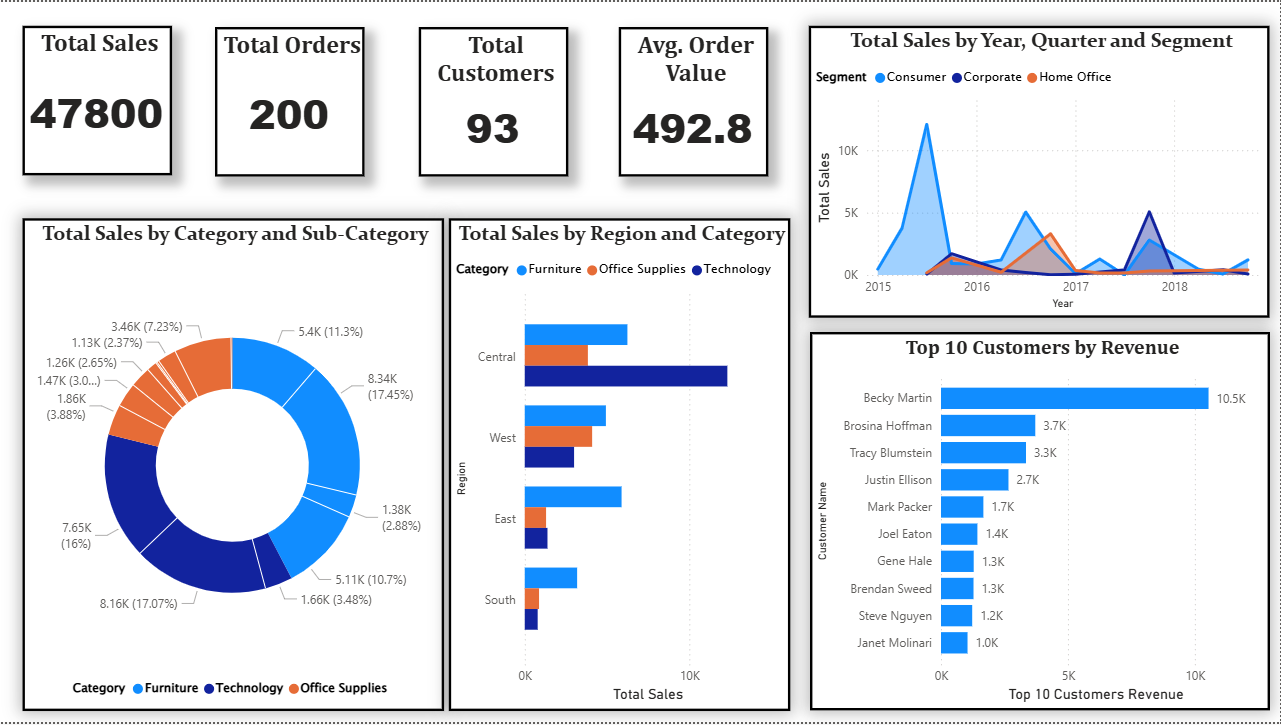

This screenshot's page, from the dashboard's own definition file:
{"tool":"powerbi","page":{"name":"Page 1","canvas":[1280,720],"ordinal":0},"visuals":[{"type":"card","title":"Total Sales","fields":{"Values":["Sum(Sales_Clean_data.Sales)"]},"box":[22,23.3,149.6,149.6],"z":0},{"type":"card","title":"Avg. Order Value","fields":{"Values":["Sales_Clean_data.Avg Order Value"]},"box":[618.9,24.7,149.6,149.6],"z":1000},{"type":"card","title":"Total Customers","fields":{"Values":["Sales_Clean_data.Total Customers"]},"box":[418.5,24.7,149.6,149.6],"z":2000},{"type":"card","title":"Total Orders","fields":{"Values":["Sales_Clean_data.Order_IDS"]},"box":[215.4,24.7,149.6,149.6],"z":3000},{"type":"donutChart","title":"Total Sales by Category and Sub-Category","fields":{"Category":["Sales_Clean_data.Category"],"Series":["Sales_Clean_data.Sub-Category"],"Y":["Sales_Clean_data.Total Sales"]},"box":[22,216.8,421.3,492.6],"z":4000},{"type":"areaChart","title":"Total Sales by Year, Quarter and Segment","fields":{"Category":["Sales_Clean_data.Order Date.Variation.Date Hierarchy.Year","Sales_Clean_data.Order Date.Variation.Date Hierarchy.Quarter"],"Series":["Sales_Clean_data.Segment"],"Y":["Sales_Clean_data.Total Sales"]},"box":[808.2,23.3,461.1,292.3],"z":5000},{"type":"clusteredBarChart","title":"Total Sales by Region and Category","fields":{"Category":["Sales_Clean_data.Region"],"Series":["Sales_Clean_data.Category"],"Y":["Sales_Clean_data.Total Sales"]},"box":[448.7,216.8,341.7,492.6],"z":6000},{"type":"barChart","title":"Top 10 Customers by Revenue","fields":{"Y":["Sales_Clean_data.Top 10 Customers Revenue"],"Category":["Sales_Clean_data.Customer Name"]},"box":[810,330,460,378.8],"z":7001}]}

Visuals, with their boxes in screenshot pixels (x1, y1, x2, y2), scaled from the page's 1280x720 canvas onto the 1281x725 screenshot:
"Total Sales" card: 22:23:172:174
"Avg. Order Value" card: 619:25:769:176
"Total Customers" card: 419:25:569:176
"Total Orders" card: 216:25:365:176
"Total Sales by Category and Sub-Category" donutChart: 22:218:444:714
"Total Sales by Year, Quarter and Segment" areaChart: 809:23:1270:318
"Total Sales by Region and Category" clusteredBarChart: 449:218:791:714
"Top 10 Customers by Revenue" barChart: 811:332:1271:714
